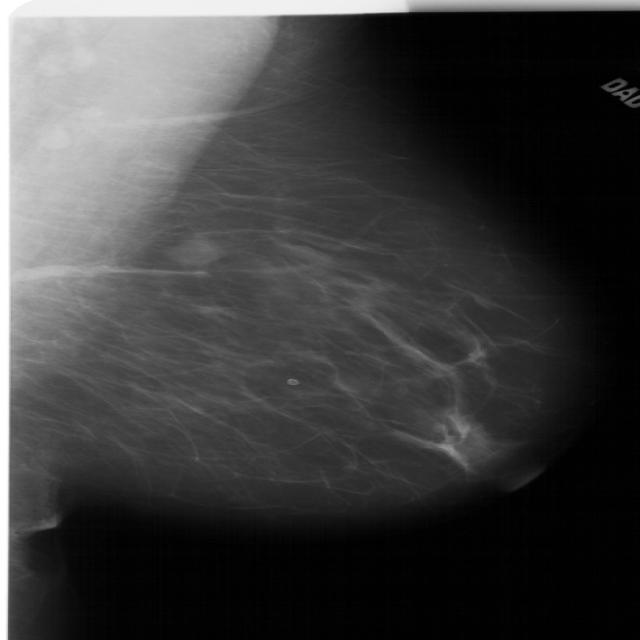tumour: (162, 235, 222, 265)
